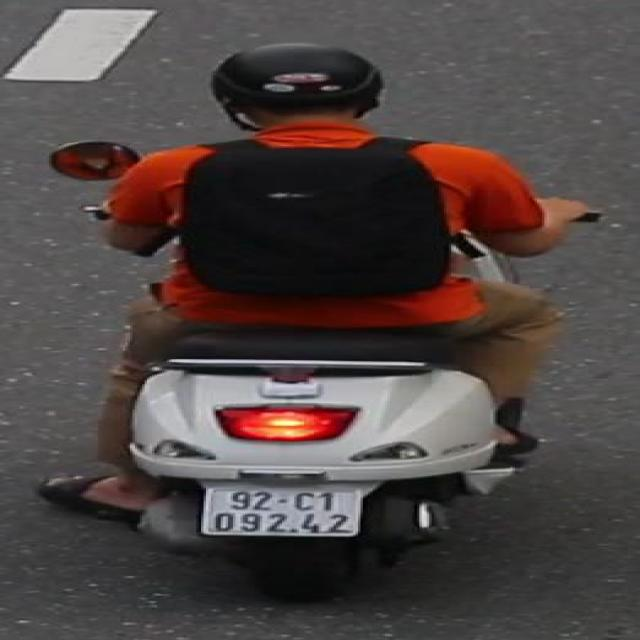LP: (190, 477, 386, 542)
helmet: (190, 34, 438, 157)
